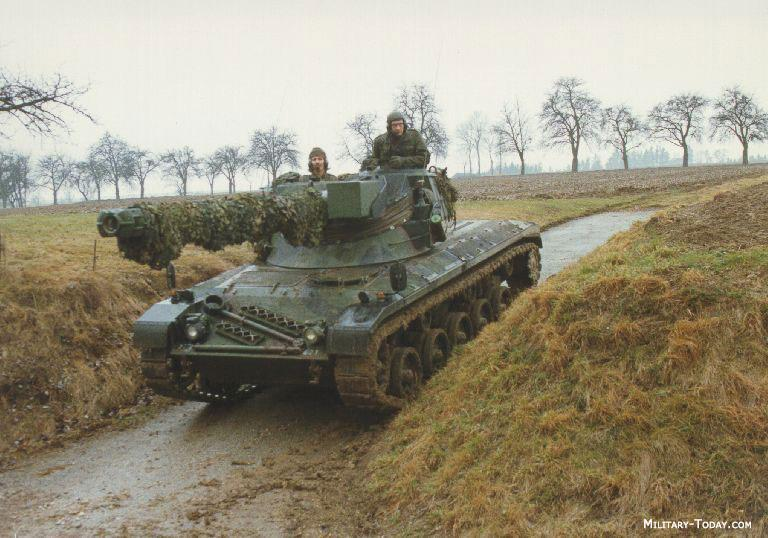tank: (96, 164, 541, 417)
